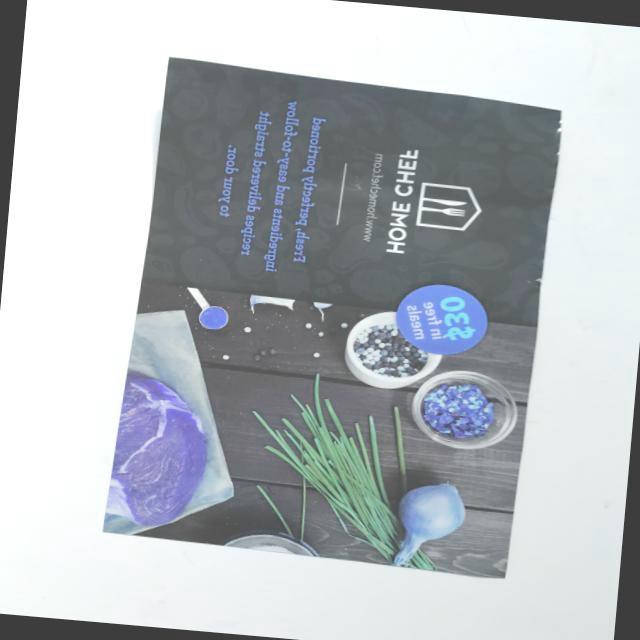paper: (64, 36, 586, 600)
